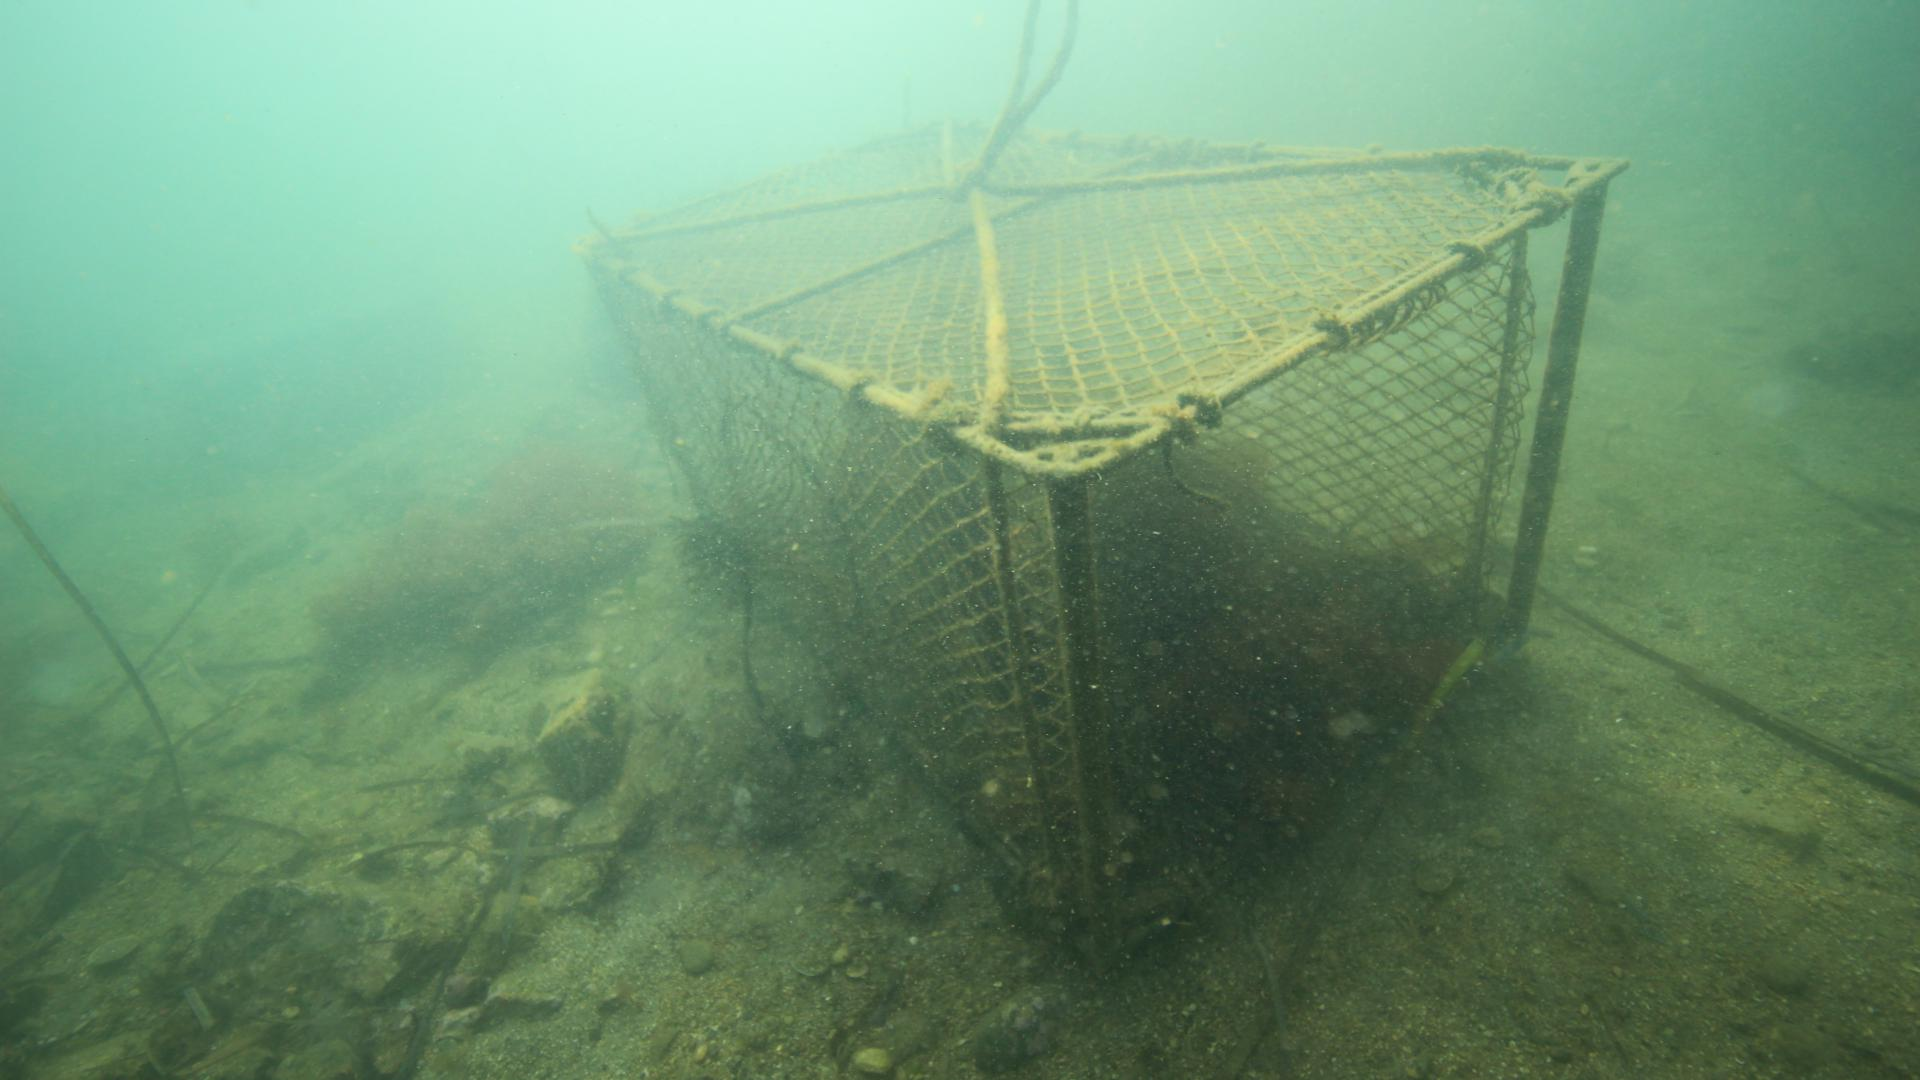bundle of ropes: (926, 0, 1100, 146)
rectangular fish trap: (566, 108, 1638, 982)
